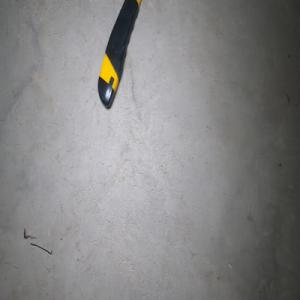Cutter: (96, 0, 142, 109)
